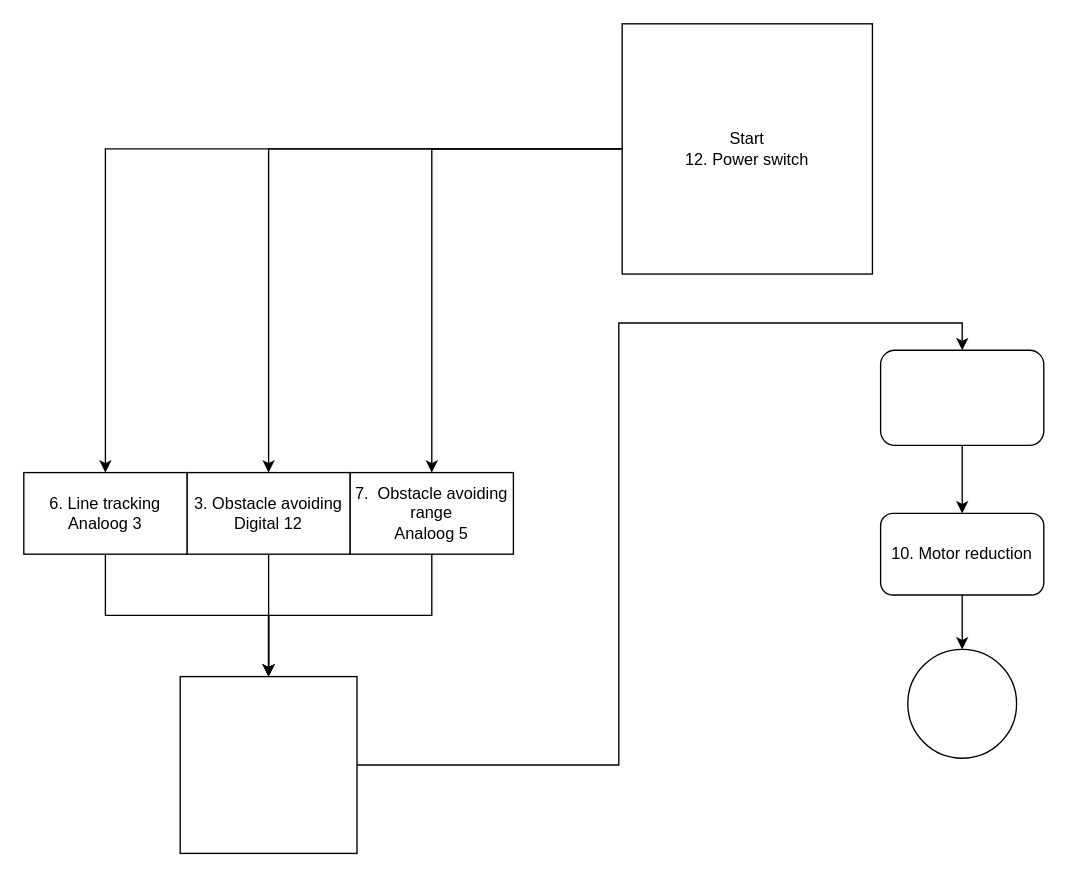
This 1068x877 diagram has some shape labels left out. Each missing label, with the centre of its shape:
1. Control interface: point 268,764
11. Wheels: point 961,703
8. Motor driver: point 961,397
